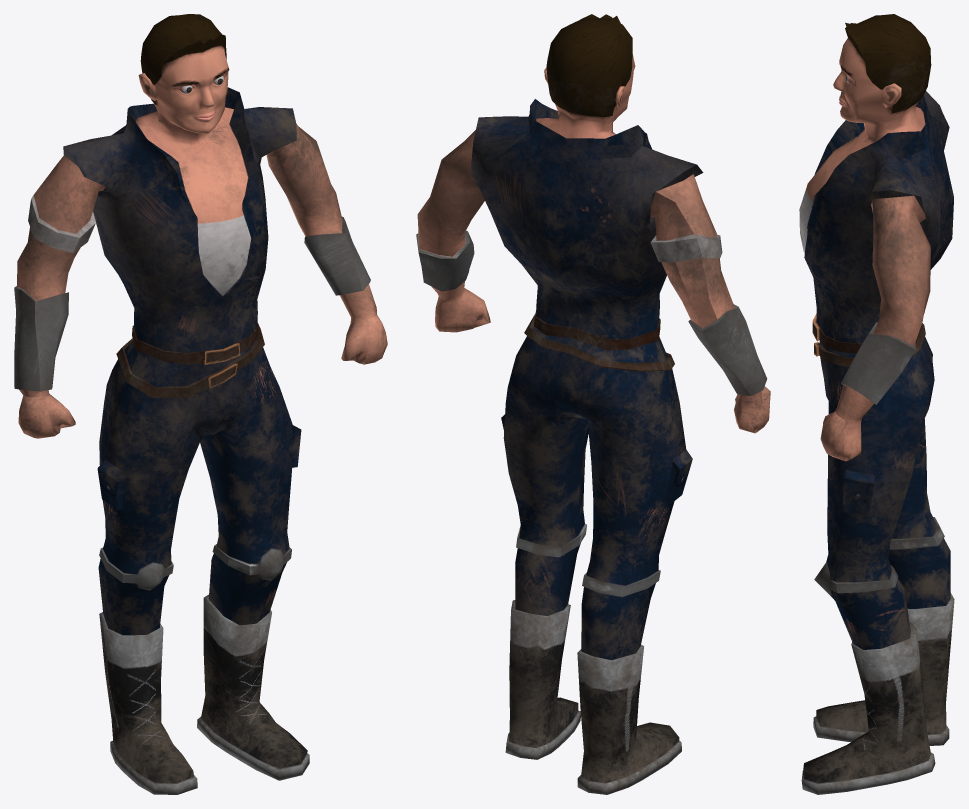
The model's file is Anim_abrir_puerta_ok_jugador.0014.obj.
3 renders of one model, left to right at view 1: azimuth 30°, elevation 25°; view 2: azimuth 150°, elevation 25°; view 3: azimuth 270°, elevation 25°, orthographic.
Visible parts, largest first — view 1: polySurface1; view 2: polySurface1; view 3: polySurface1.
Boxes of the visible parts, <box> form: polySurface1: <box>14,14,387,794</box>; polySurface1: <box>416,14,770,794</box>; polySurface1: <box>799,14,954,794</box>.
Size of the model in its own units: 4.73 by 9.66 by 1.85.
